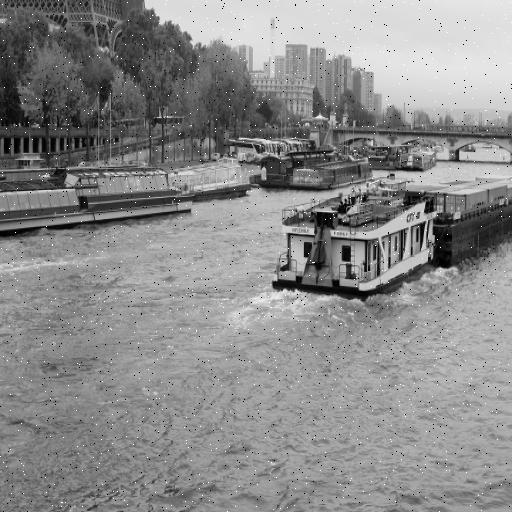tugboat: (270, 173, 441, 312)
